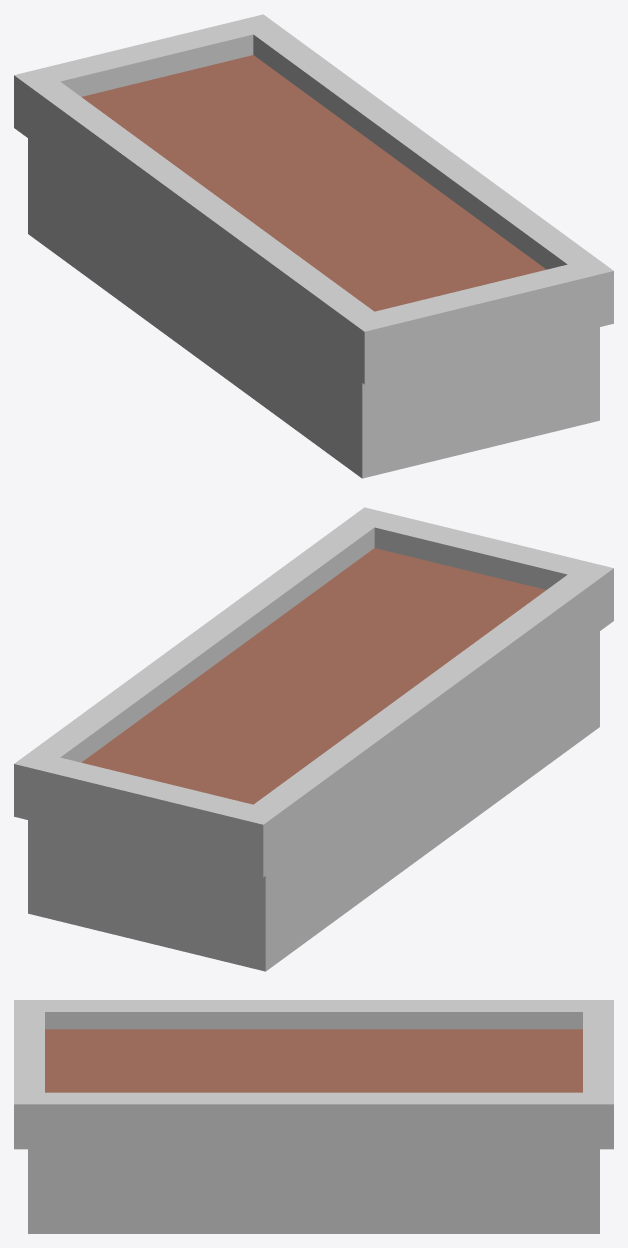
File: hedge long planter box.fbx
The picture shows the model from 3 angles, top to bottom: view 1: azimuth 30°, elevation 25°; view 2: azimuth 150°, elevation 25°; view 3: azimuth 270°, elevation 25°; orthographic projection. The views are drawn at different scales.
Parts seen in each view (by area): view 1: Hedge Planter; view 2: Hedge Planter; view 3: Hedge Planter.
Boxes of the visible parts, x1,y1,x2,y2 form: Hedge Planter: (14, 14, 613, 478); Hedge Planter: (14, 507, 613, 971); Hedge Planter: (14, 1000, 613, 1233).
Bounding box in the file's own units: 176 × 104 × 429.
